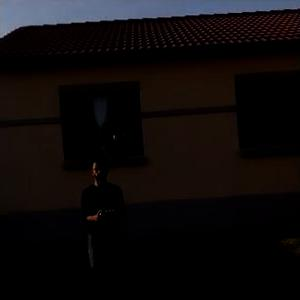follow: (77, 148, 130, 299)
